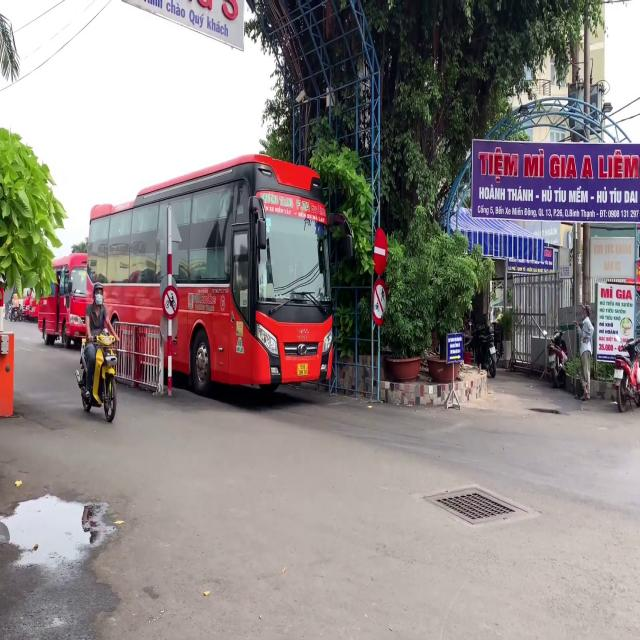bien_vang: (297, 364, 308, 376)
